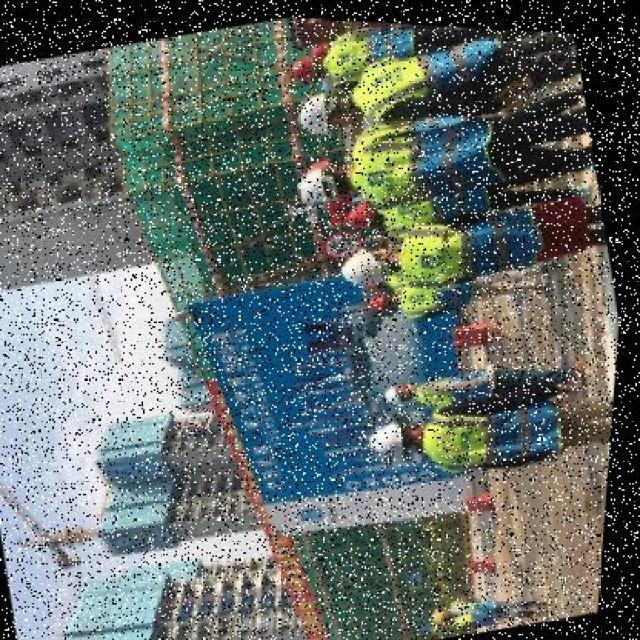helmet: (292, 83, 342, 139), (338, 240, 388, 290), (294, 162, 338, 207), (369, 414, 415, 456), (285, 46, 321, 83), (386, 374, 412, 400)
vest: (348, 19, 517, 125), (346, 108, 506, 210), (394, 197, 552, 285), (425, 388, 571, 474), (323, 20, 420, 76), (459, 588, 516, 622)
